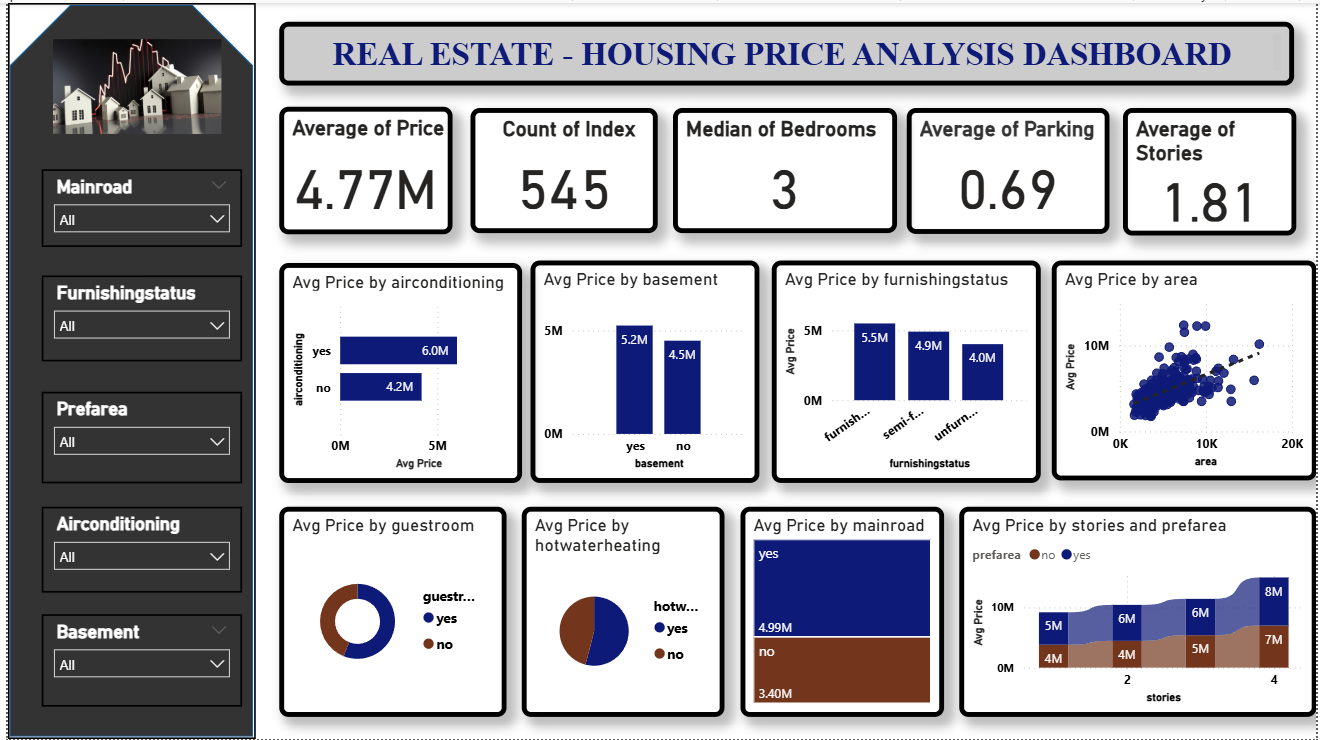

The page's visual inventory and layout, read from the dashboard file:
{"tool":"powerbi","page":{"name":"Page 1","canvas":[1280,720],"ordinal":0},"visuals":[{"type":"shape","box":[0,0,242.1,720.2],"z":0},{"type":"textbox","box":[265.4,18.3,992.9,62.4],"z":1000},{"type":"card","title":"Average of Price","fields":{"Values":["Housing_Price_Data.Avg Price"]},"box":[265.4,101.5,170,124.7],"z":2000},{"type":"card","title":"Count of Index","fields":{"Values":["CountNonNull(Housing_Price_Data.Index)"]},"box":[452.4,102.7,183.4,122.3],"z":3000},{"type":"card","title":"Median of Bedrooms","fields":{"Values":["Median(Housing_Price_Data.bedrooms)"]},"box":[650.5,102.7,218.9,122.3],"z":4000},{"type":"card","title":"Average of Parking","fields":{"Values":["Avg(Housing_Price_Data.parking)"]},"box":[879.2,102.7,198.1,123.5],"z":5000},{"type":"card","title":"Average of Stories","fields":{"Values":["Avg(Housing_Price_Data.stories)"]},"box":[1090.8,102.7,170,124.7],"z":6000},{"type":"slicer","fields":{"Values":["Housing_Price_Data.airconditioning"]},"box":[33,492.8,195.7,84.4],"z":7000},{"type":"slicer","fields":{"Values":["Housing_Price_Data.basement"]},"box":[33,598,195.7,90.5],"z":8000},{"type":"slicer","fields":{"Values":["Housing_Price_Data.prefarea"]},"box":[33,380.3,195.7,89.3],"z":9000},{"type":"slicer","fields":{"Values":["Housing_Price_Data.furnishingstatus"]},"box":[33,266.6,195.7,84.4],"z":10000},{"type":"slicer","fields":{"Values":["Housing_Price_Data.mainroad"]},"box":[33,162.6,195.7,75.8],"z":11000},{"type":"barChart","fields":{"Y":["Housing_Price_Data.Avg Price"],"Category":["Housing_Price_Data.airconditioning"]},"box":[265.4,254.3,237.2,215.2],"z":12000},{"type":"columnChart","fields":{"Y":["Housing_Price_Data.Avg Price"],"Category":["Housing_Price_Data.basement"]},"box":[511.1,251.9,223.8,217.7],"z":13000},{"type":"columnChart","fields":{"Category":["Housing_Price_Data.furnishingstatus"],"Y":["Housing_Price_Data.Avg Price"]},"box":[747.2,251.9,262.9,217.7],"z":14000},{"type":"scatterChart","fields":{"X":["Housing_Price_Data.area"],"Y":["Housing_Price_Data.Avg Price"]},"box":[1021.1,251.9,259.2,215.2],"z":15000},{"type":"donutChart","fields":{"Y":["Housing_Price_Data.Avg Price"],"Category":["Housing_Price_Data.guestroom"]},"box":[265.4,492.8,222.6,205.4],"z":16000},{"type":"pieChart","fields":{"Category":["Housing_Price_Data.hotwaterheating"],"Y":["Housing_Price_Data.Avg Price"]},"box":[502.6,492.8,198.1,205.4],"z":17000},{"type":"treemap","fields":{"Values":["Housing_Price_Data.Avg Price"],"Group":["Housing_Price_Data.mainroad"]},"box":[716.6,492.8,199.3,205.4],"z":18000},{"type":"ribbonChart","fields":{"Y":["Housing_Price_Data.Avg Price"],"Category":["Housing_Price_Data.stories"],"Series":["Housing_Price_Data.prefarea"]},"box":[930.6,492.8,349.7,205.4],"z":19000},{"type":"image","box":[0,30.6,253.1,102.7],"z":20000}]}

Visuals, with their boxes in screenshot pixels (x1, y1, x2, y2), scaled from the page's 1280x720 canvas onto the 1320x740 screenshot:
shape: 0,0,250,739
textbox: 274,19,1298,83
"Average of Price" card: 274,104,449,232
"Count of Index" card: 467,106,656,231
"Median of Bedrooms" card: 671,106,897,231
"Average of Parking" card: 907,106,1111,232
"Average of Stories" card: 1125,106,1300,234
slicer - Housing_Price_Data.airconditioning: 34,506,236,593
slicer - Housing_Price_Data.basement: 34,615,236,708
slicer - Housing_Price_Data.prefarea: 34,391,236,483
slicer - Housing_Price_Data.furnishingstatus: 34,274,236,361
slicer - Housing_Price_Data.mainroad: 34,167,236,245
barChart - Housing_Price_Data.Avg Price x Housing_Price_Data.airconditioning: 274,261,518,483
columnChart - Housing_Price_Data.Avg Price x Housing_Price_Data.basement: 527,259,758,483
columnChart - Housing_Price_Data.furnishingstatus x Housing_Price_Data.Avg Price: 771,259,1042,483
scatterChart - Housing_Price_Data.area x Housing_Price_Data.Avg Price: 1053,259,1319,480
donutChart - Housing_Price_Data.Avg Price x Housing_Price_Data.guestroom: 274,506,503,718
pieChart - Housing_Price_Data.hotwaterheating x Housing_Price_Data.Avg Price: 518,506,723,718
treemap - Housing_Price_Data.Avg Price x Housing_Price_Data.mainroad: 739,506,945,718
ribbonChart - Housing_Price_Data.Avg Price x Housing_Price_Data.stories: 960,506,1319,718
image: 0,31,261,137
